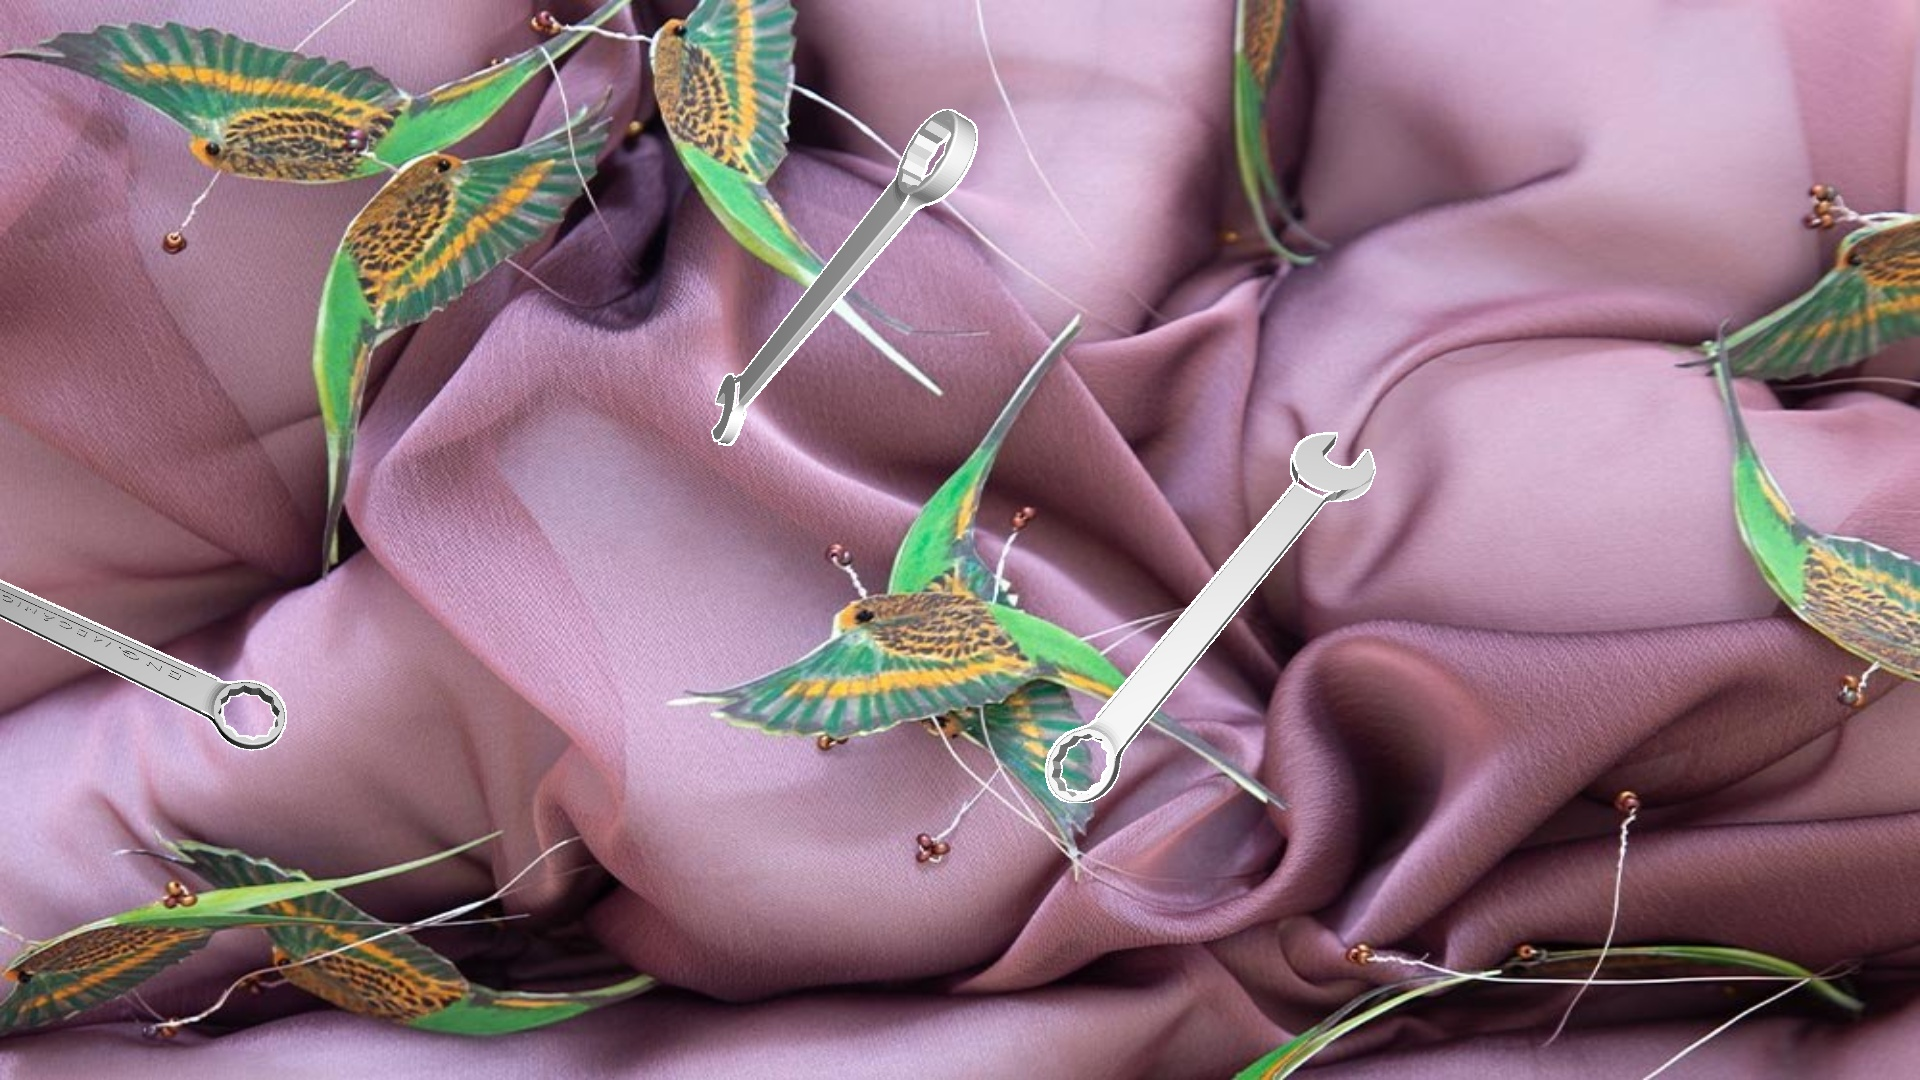Mixed Key: (1044, 433, 1375, 802), (711, 109, 977, 444), (0, 579, 286, 750)
